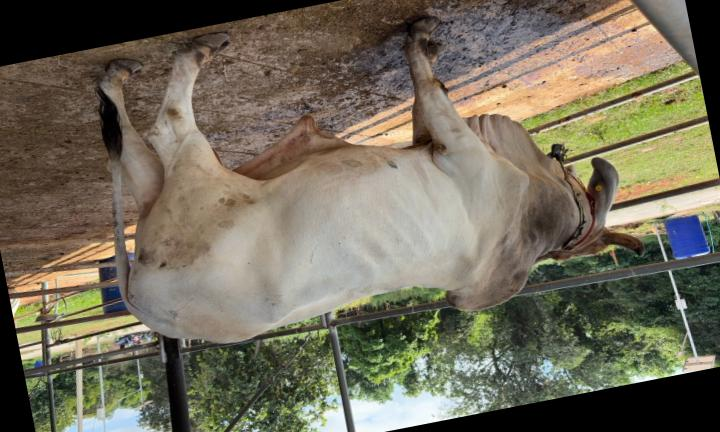Brahman: (94, 17, 643, 342)
